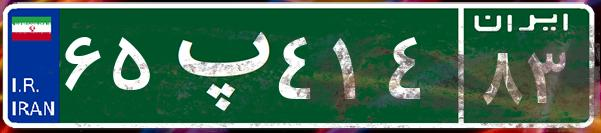1: (330, 28, 385, 110)
3: (525, 38, 570, 115)
4: (385, 28, 445, 110), (273, 28, 330, 110)
5: (110, 28, 158, 105)
6: (57, 26, 110, 107)
8: (475, 38, 525, 113)
پ: (158, 15, 273, 115)
